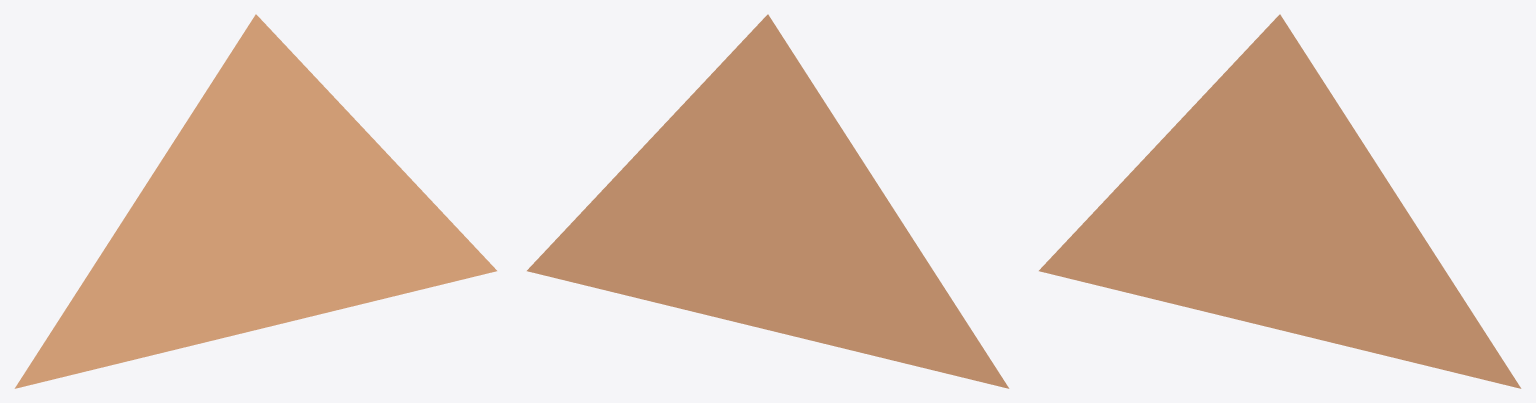
The picture shows the model from 3 angles, left to right: view 1: azimuth 30°, elevation 25°; view 2: azimuth 150°, elevation 25°; view 3: azimuth 330°, elevation 25°; orthographic projection.
Size of the model in its own units: 1.6 by 1 by 0.
